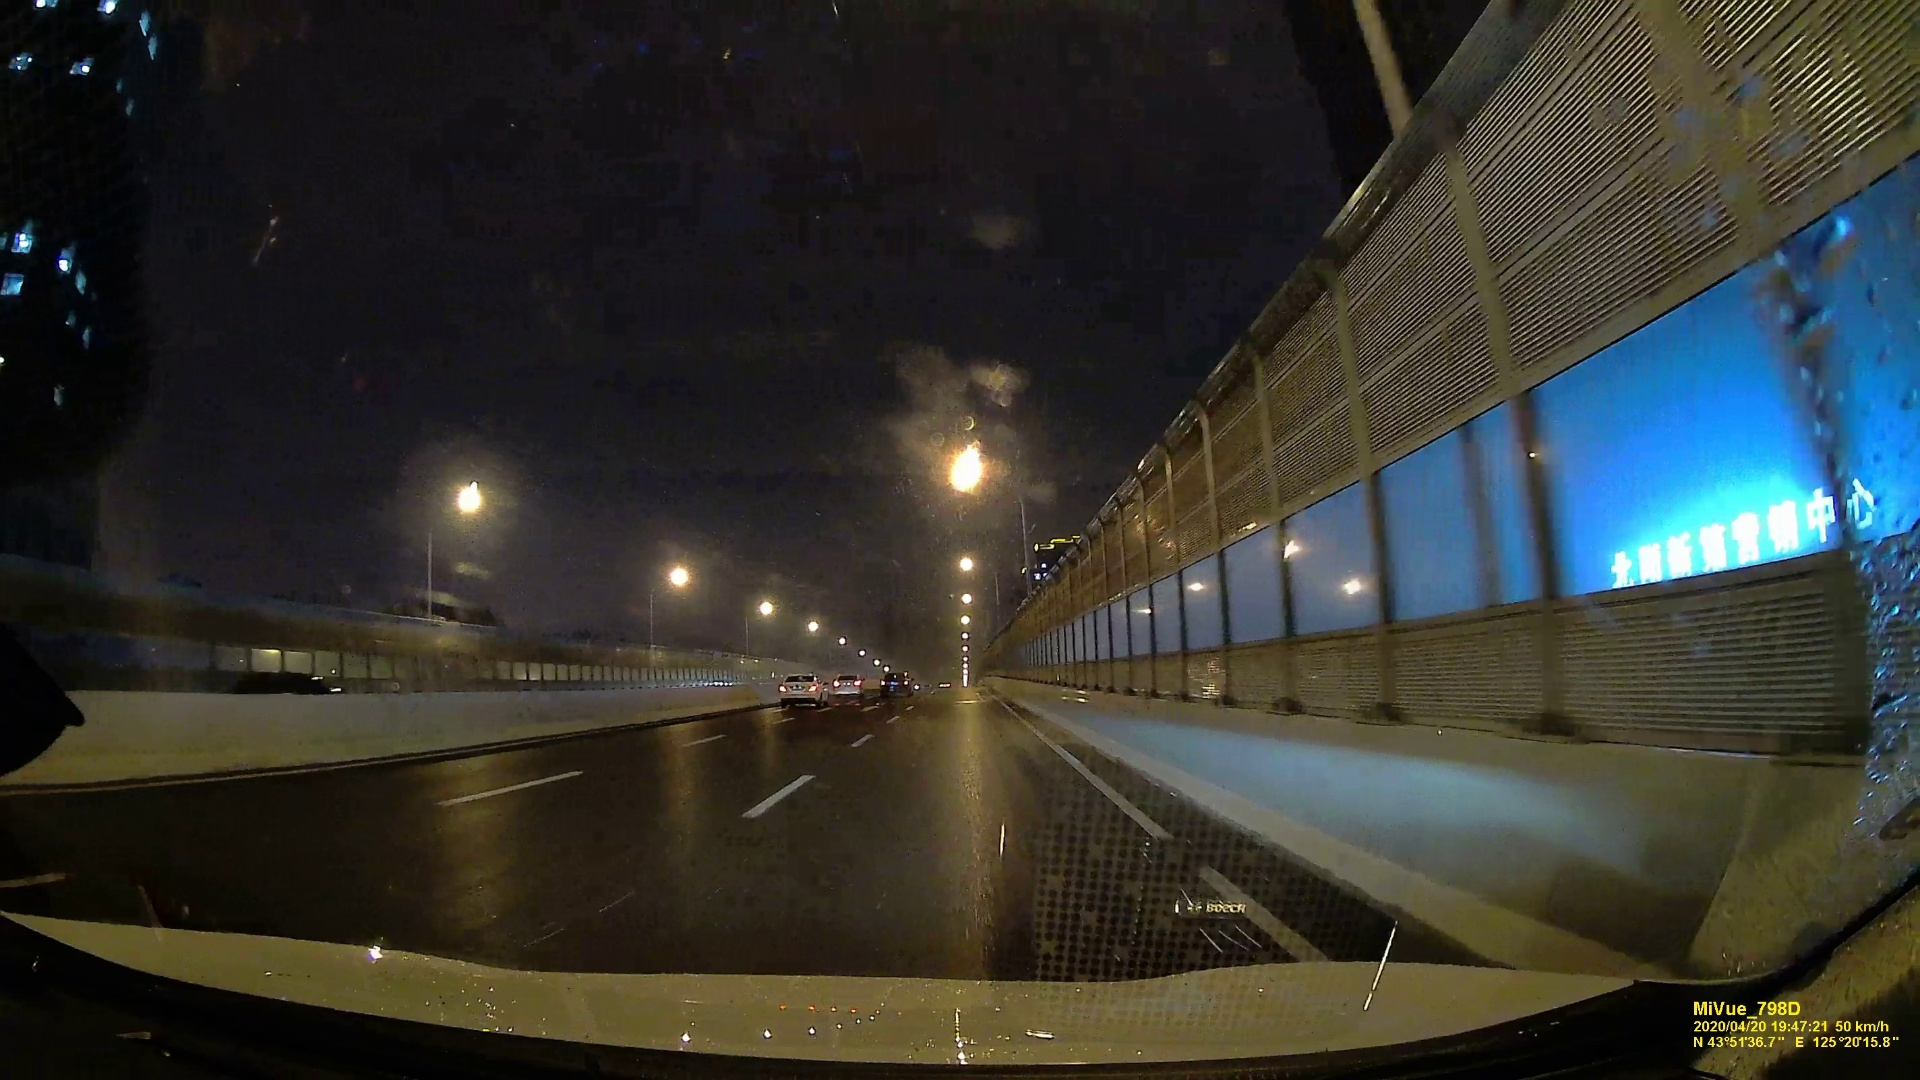vehicle: (777, 671, 829, 708), (878, 671, 914, 696), (833, 673, 862, 696)
